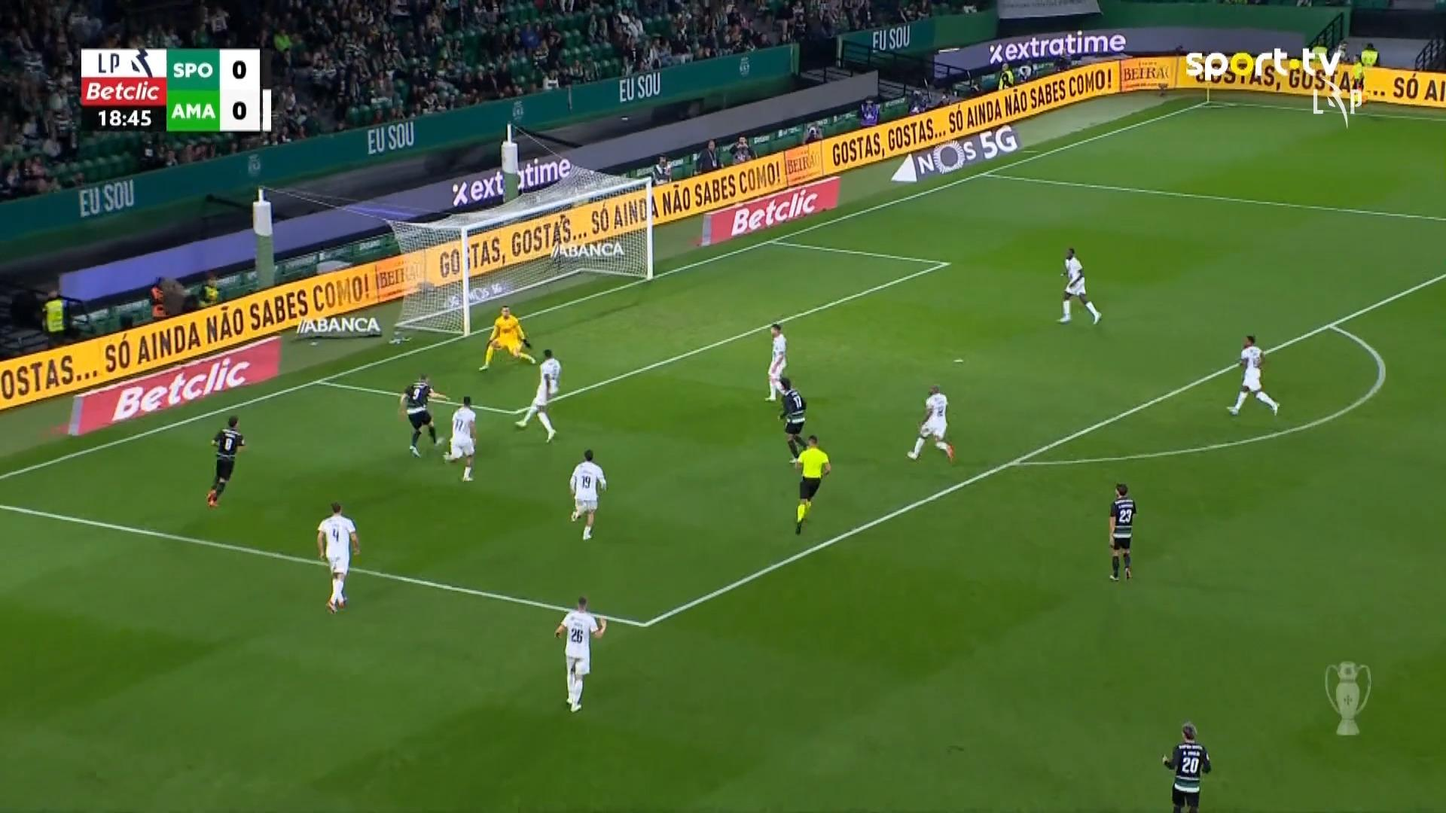ball: (337, 595, 347, 607)
goalkeeper: (478, 305, 536, 371)
player: (554, 595, 607, 713), (315, 501, 360, 614), (1225, 333, 1279, 416), (514, 348, 561, 443), (1161, 722, 1211, 811), (398, 373, 450, 458), (905, 384, 955, 462), (206, 414, 246, 507), (568, 449, 607, 540), (1057, 246, 1101, 325), (442, 394, 477, 482), (1107, 482, 1136, 580), (776, 375, 807, 464), (764, 322, 788, 401)
referee: (792, 434, 831, 534), (1349, 54, 1365, 107)
